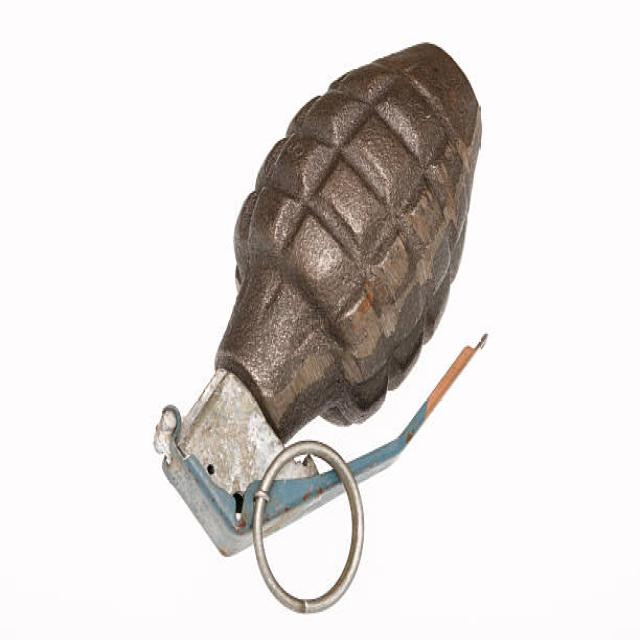grenade: (149, 39, 504, 620)
